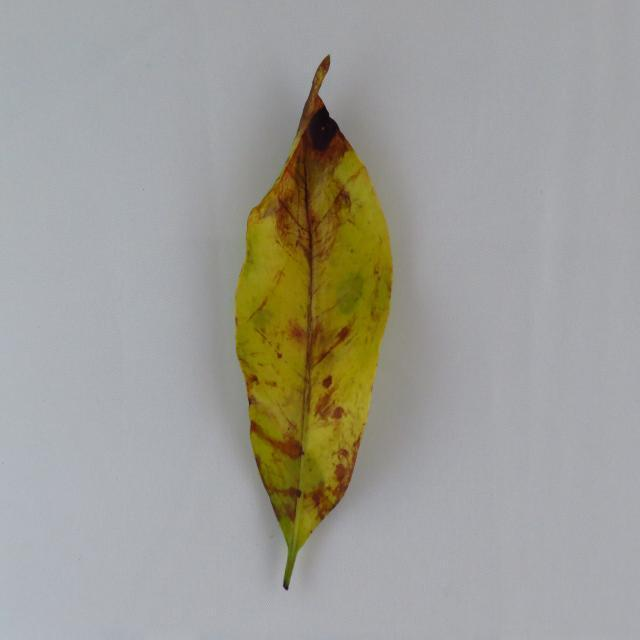DeficienciaNutricional-Nitrogeno: (238, 60, 390, 582)
